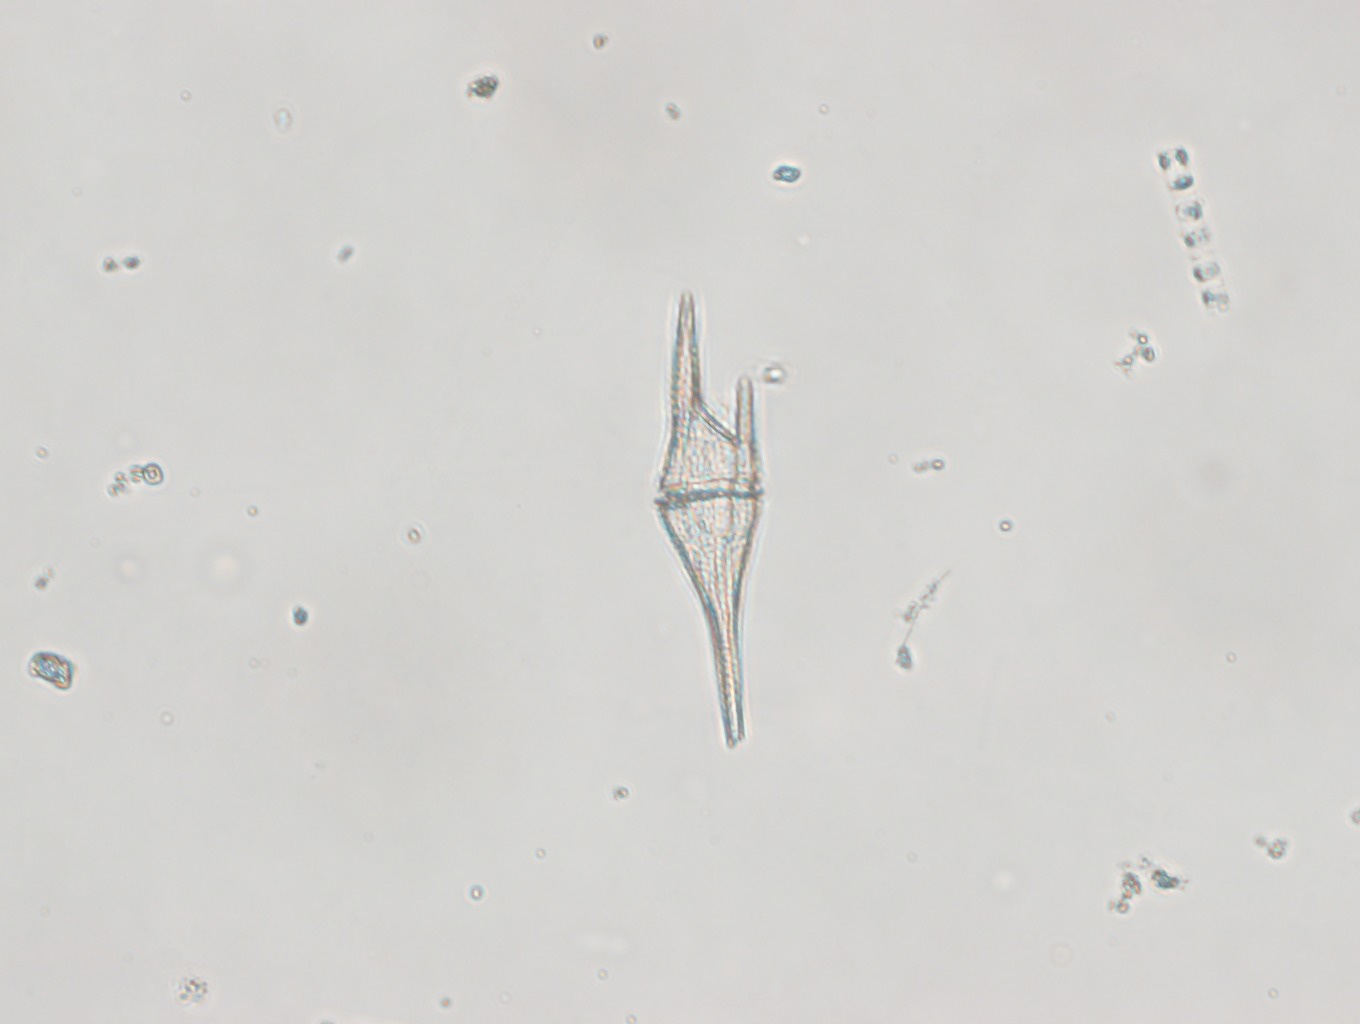ceratium furca: (653, 284, 763, 750)
skeletonema: (1147, 140, 1239, 325)
